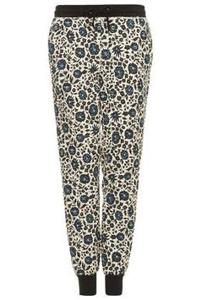C_W_pants: (44, 3, 151, 296)
